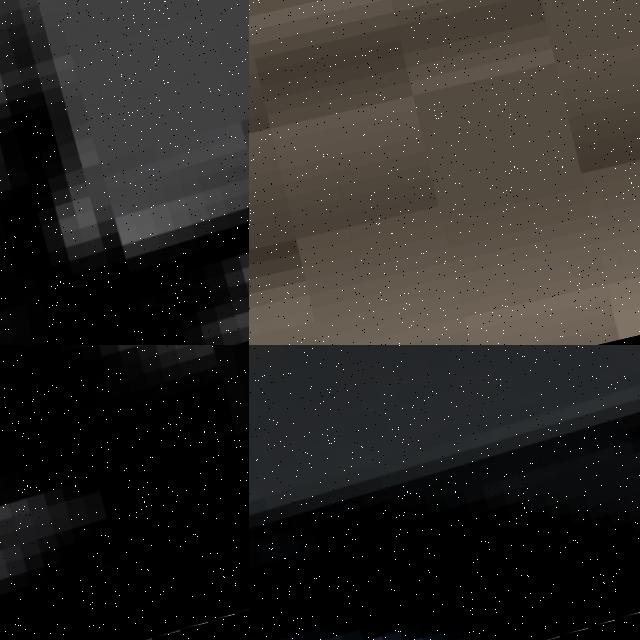drone: (249, 345, 640, 640), (0, 0, 249, 345), (0, 345, 249, 640)
